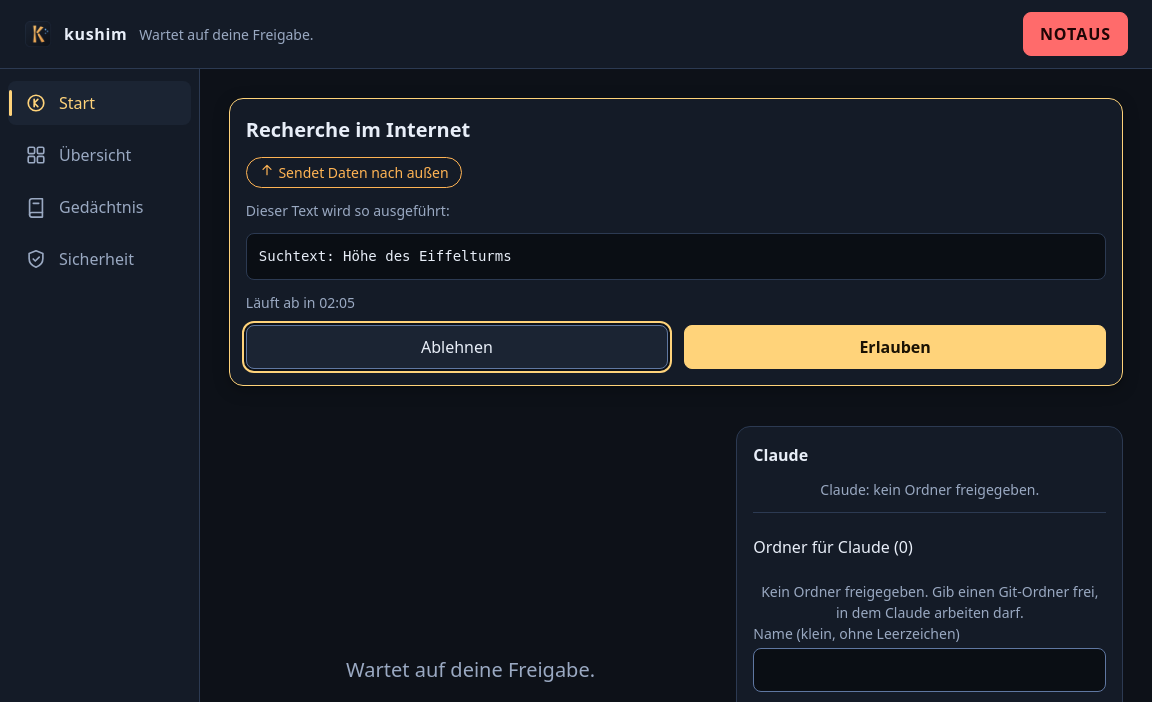
Test: Freigabe-Leiste › Erlauben sendet Hash und confirm; ohne Klick passiert nichts
Check: the dialog is shown, box [229,98,1123,386]
Click the button "Erlauben": (895, 347) [684,325,1106,369]
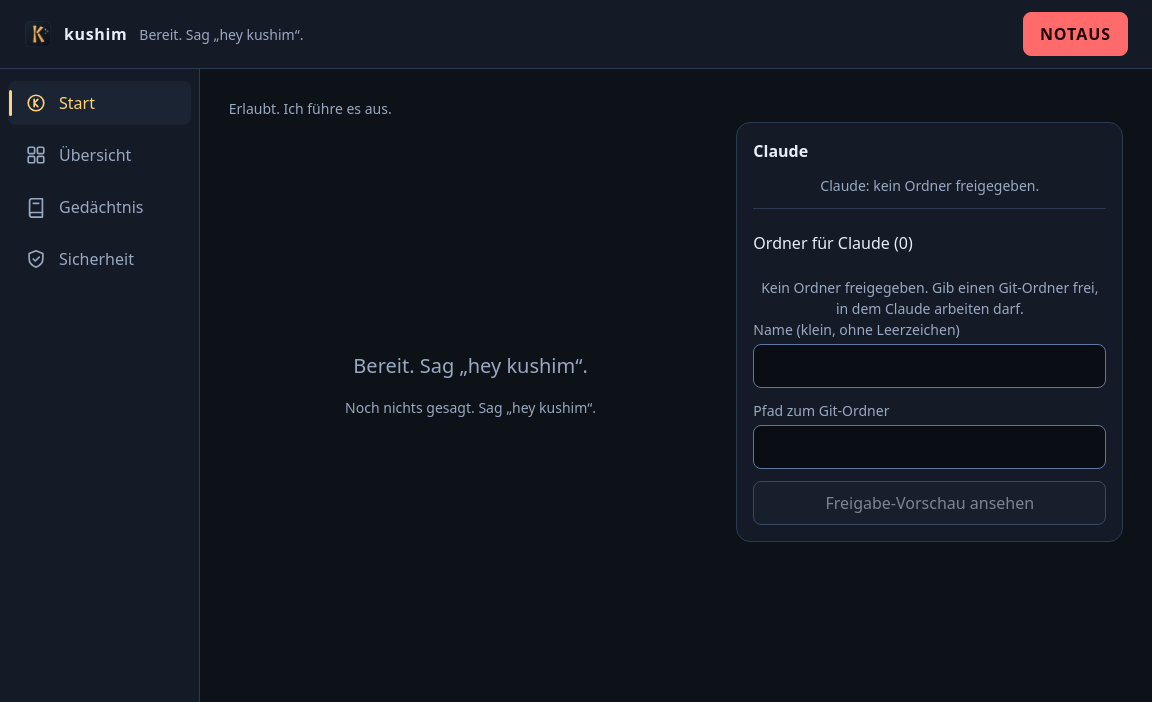
Check: the text "Erlaubt. Ich führe es aus." is shown, box [229,99,392,118]
Check: the dialog is gone
